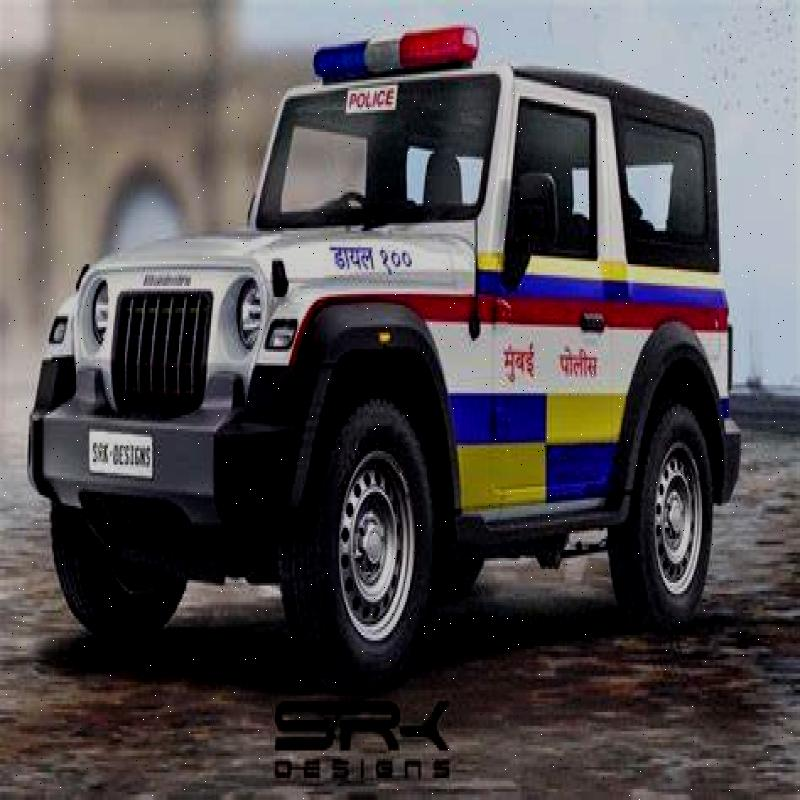AmbulanceSiren: (304, 24, 482, 87)
